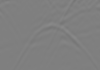hyperbola: (19, 23, 90, 66)
